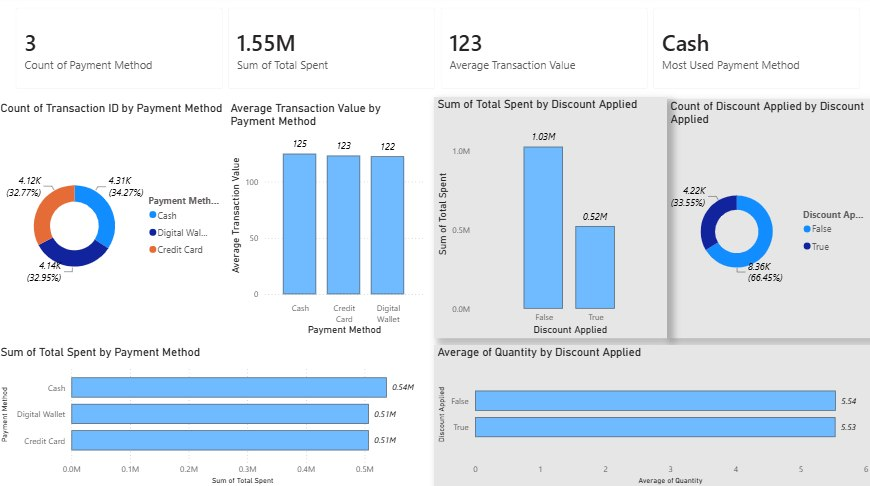

Layout of this report page (visuals, bound fields, positions):
{"tool":"powerbi","page":{"name":"Payment & Discount Analysis","canvas":[1280,720],"ordinal":4},"visuals":[{"type":"cardVisual","fields":{"Data":["Count(Retail.Payment Method)","Sum(Retail.Total Spent)","Retail.Average Transaction Value","Retail.Most Used Payment Method"]},"box":[10.2,0,1270.2,153.7],"z":0},{"type":"donutChart","fields":{"Category":["Retail.Payment Method"],"Y":["CountNonNull(Retail.Transaction ID)"]},"box":[0,153.7,336.6,346.8],"z":1000},{"type":"clusteredBarChart","fields":{"Y":["Sum(Retail.Total Spent)"],"Category":["Retail.Payment Method"]},"box":[0,510.7,629.3,209.3],"z":2000},{"type":"clusteredColumnChart","fields":{"Category":["Retail.Payment Method"],"Y":["Retail.Average Transaction Value"]},"box":[336.6,153.7,292.7,346.8],"z":3000},{"type":"donutChart","fields":{"Category":["Retail.Discount Applied"],"Y":["CountNonNull(Retail.Discount Applied)"]},"box":[980.5,150.7,300,349.8],"z":4000},{"type":"clusteredColumnChart","fields":{"Category":["Retail.Discount Applied"],"Y":["Sum(Retail.Total Spent)"]},"box":[639.5,147.8,341,352.7],"z":5000},{"type":"clusteredBarChart","fields":{"Category":["Retail.Discount Applied"],"Y":["Avg(Retail.Quantity)"]},"box":[639.5,510.7,641,209.3],"z":6000}]}

Visuals, with their boxes in screenshot pixels (x1, y1, x2, y2), scaled from the page's 1280x720 canvas onto the 870x486 screenshot:
cardVisual - Count(Retail.Payment Method) x Sum(Retail.Total Spent): (left=7, top=0, right=869, bottom=104)
donutChart - Retail.Payment Method x CountNonNull(Retail.Transaction ID): (left=0, top=104, right=229, bottom=338)
clusteredBarChart - Sum(Retail.Total Spent) x Retail.Payment Method: (left=0, top=345, right=428, bottom=485)
clusteredColumnChart - Retail.Payment Method x Retail.Average Transaction Value: (left=229, top=104, right=428, bottom=338)
donutChart - Retail.Discount Applied x CountNonNull(Retail.Discount Applied): (left=666, top=102, right=869, bottom=338)
clusteredColumnChart - Retail.Discount Applied x Sum(Retail.Total Spent): (left=435, top=100, right=666, bottom=338)
clusteredBarChart - Retail.Discount Applied x Avg(Retail.Quantity): (left=435, top=345, right=869, bottom=485)
